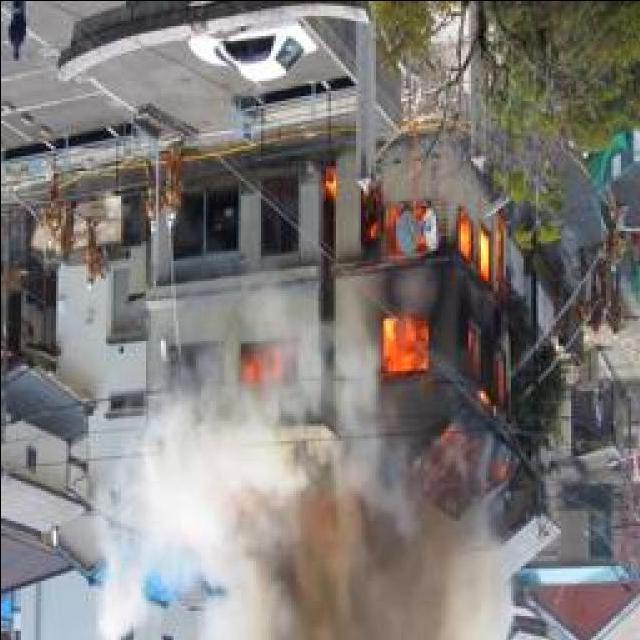Fire: (318, 157, 541, 465)
